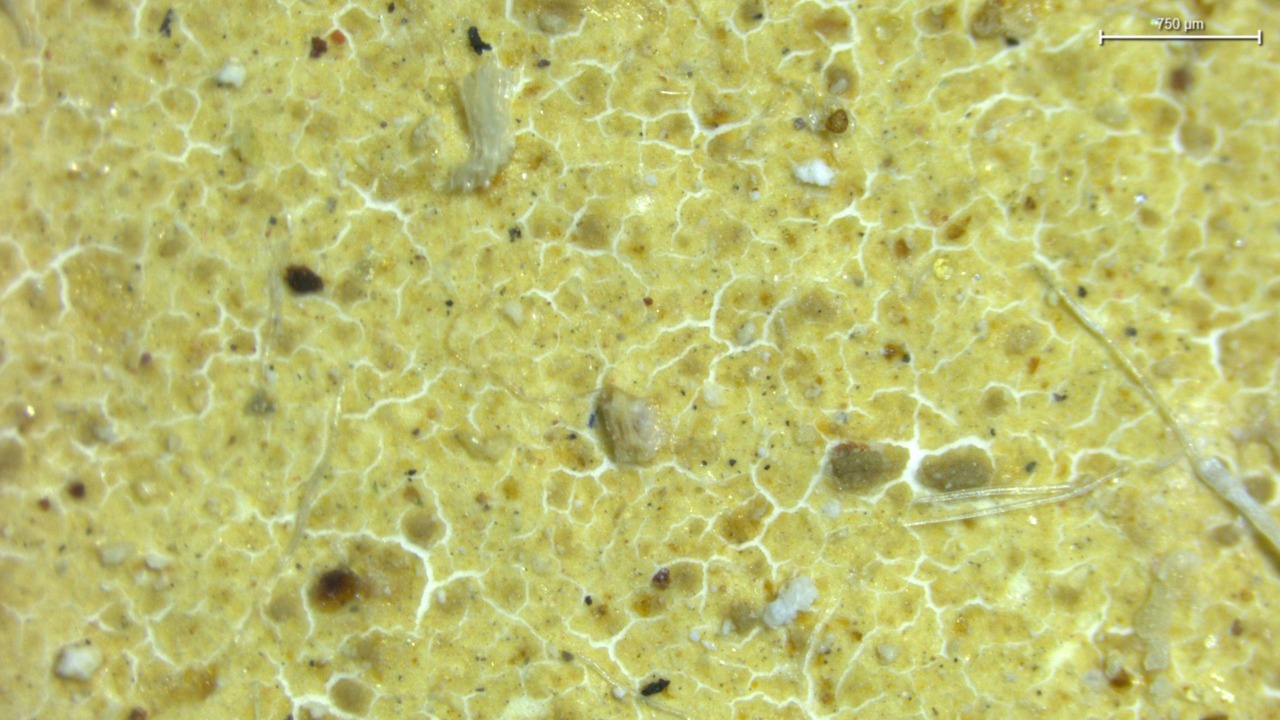microplastic_fragment: (450, 58, 514, 191), (599, 387, 663, 464), (763, 576, 818, 627), (793, 159, 836, 187)
